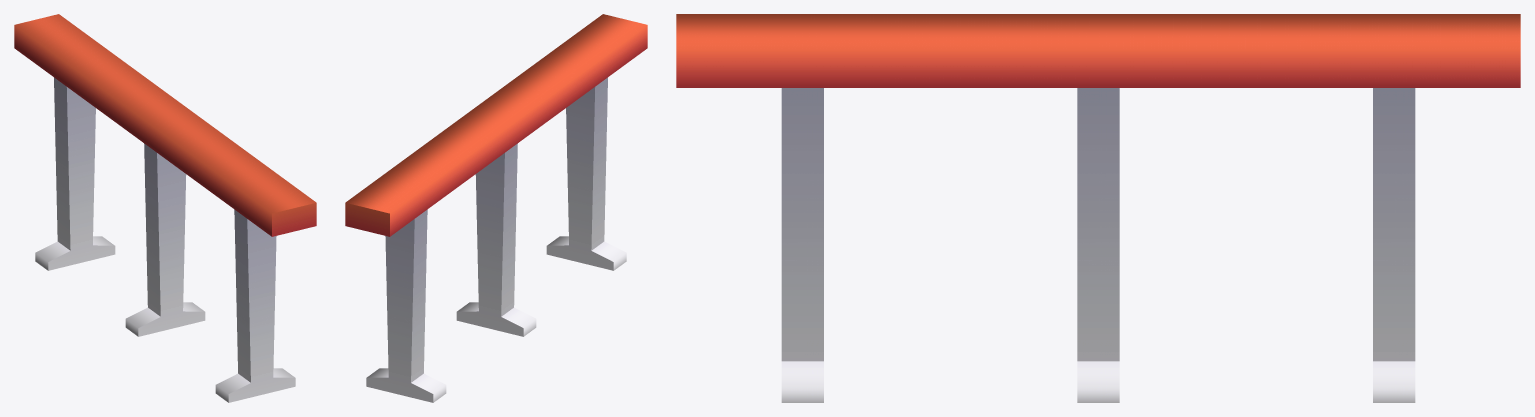
File: rail-high-transformed.glb
3 views of the same model, side by side, from view 1: azimuth 30°, elevation 25°; view 2: azimuth 150°, elevation 25°; view 3: azimuth 270°, elevation 25° (orthographic). The views are drawn at different scales.
Parts seen in each view (by area): view 1: rail-high; view 2: rail-high; view 3: rail-high.
Part boxes in pixels (x1,y1,x2,y2): rail-high: [14, 14, 316, 402]; rail-high: [345, 14, 647, 402]; rail-high: [676, 14, 1520, 402].
Size of the model in its own units: 0.15 by 0.45 by 1.
1 material, 1 textured.
